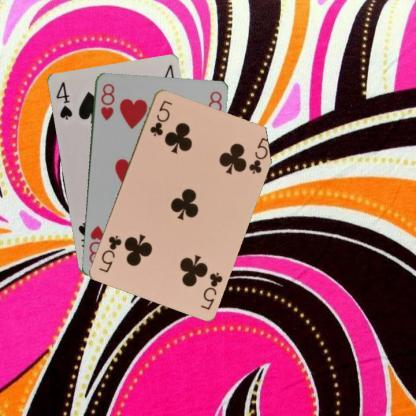4s: (52, 78, 74, 121)
5c: (198, 269, 224, 311), (147, 97, 173, 138)
8h: (97, 81, 115, 122)
